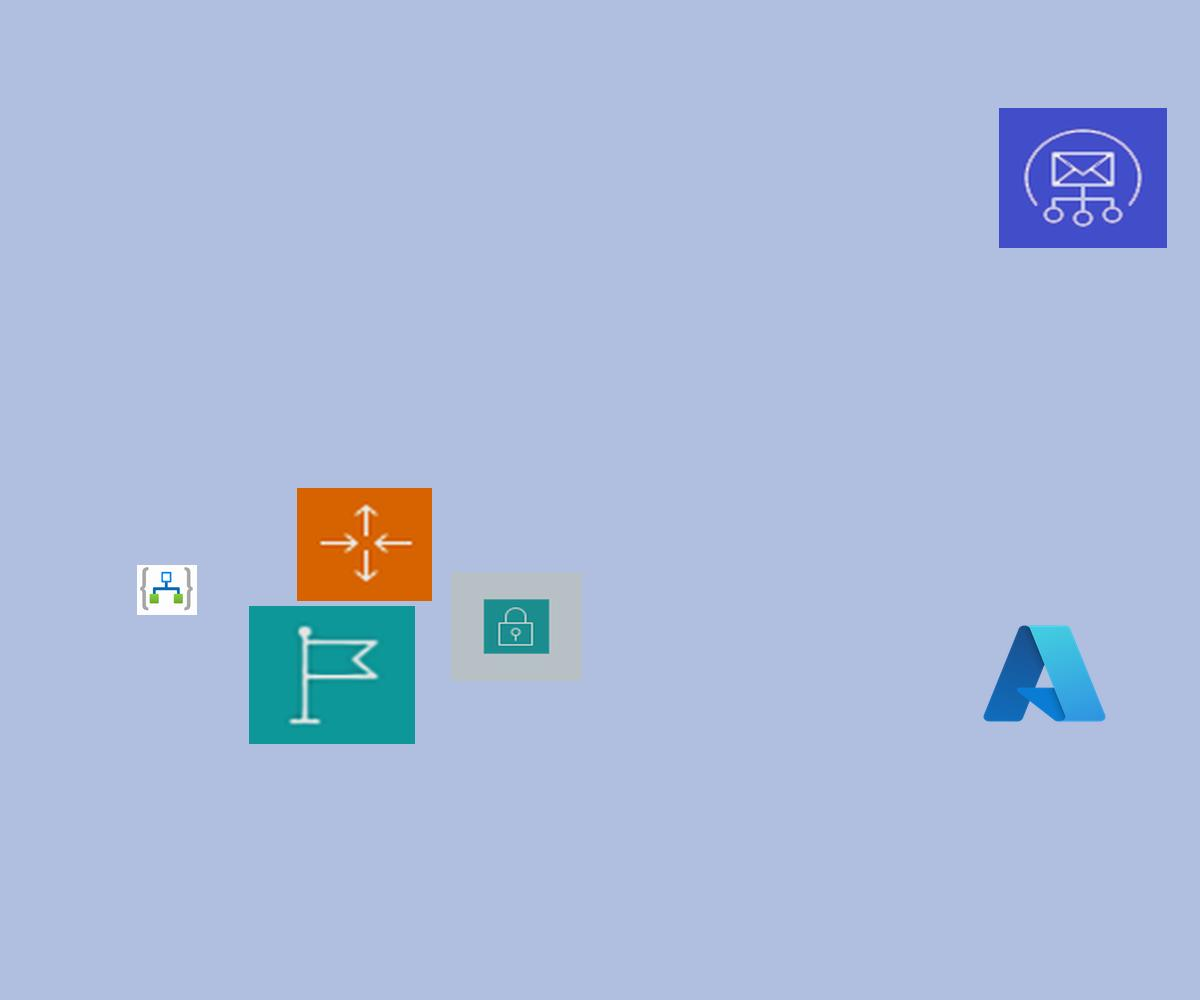AWS-Private-subnet: (451, 572, 582, 681)
AWS-Region: (249, 606, 415, 744)
AWS-Scaling-group: (297, 488, 432, 601)
AWS-Simple-Email-Service: (999, 108, 1167, 248)
Azure_integration-204-Logic-Apps: (137, 565, 197, 615)
Azure_services: (978, 618, 1111, 729)
